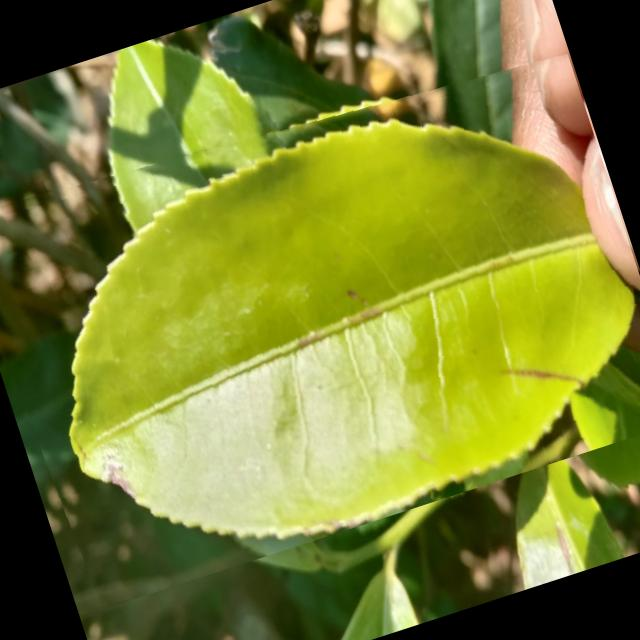Category B 2-4 days: (0, 21, 640, 615)
